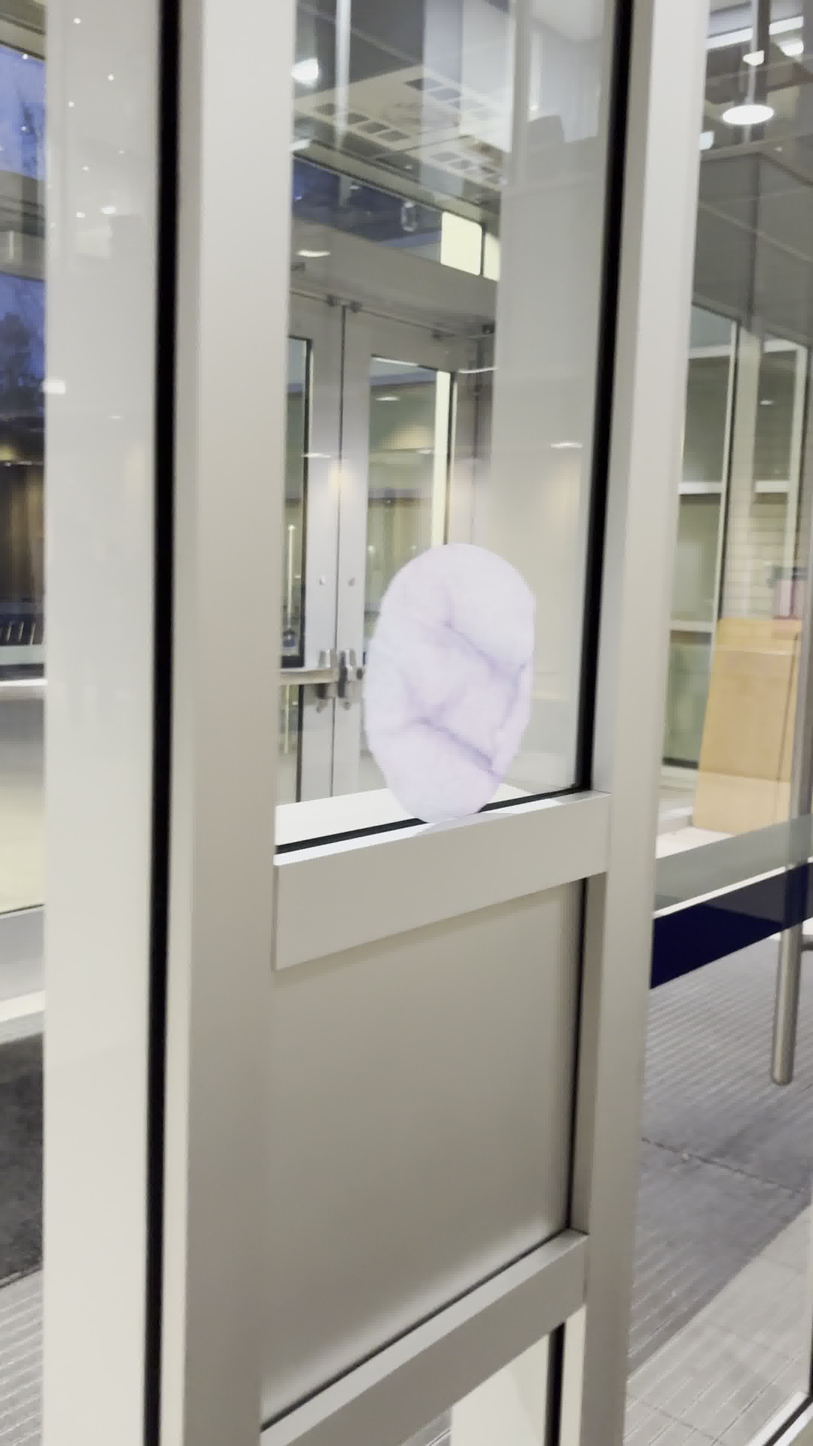Target: (363, 542, 536, 824)
